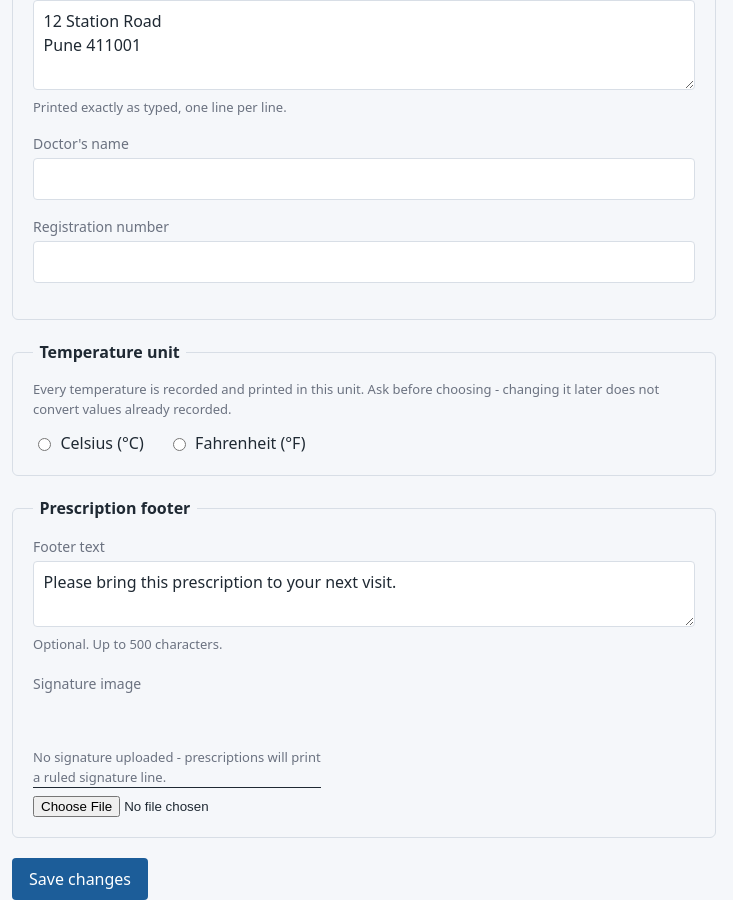
Test: ClinicProfilePage › renders the server field errors against the right inputs
(page scrolled)
Click the button "Save changes": (80, 879) x1=12 y1=858 x2=148 y2=899
(page scrolled)
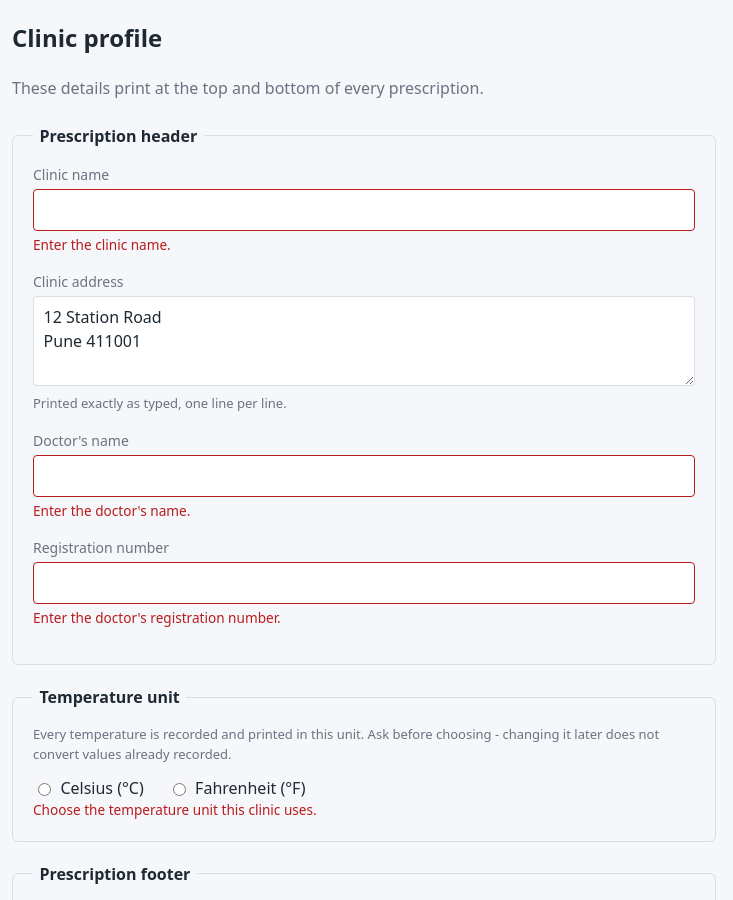
Now the text "Enter the clinic name." is shown, box x1=33 y1=235 x2=171 y2=254
Now the text "Enter the doctor's name." is shown, box x1=33 y1=501 x2=190 y2=520
Now the text "Enter the doctor's registration number." is shown, box x1=33 y1=608 x2=281 y2=627
